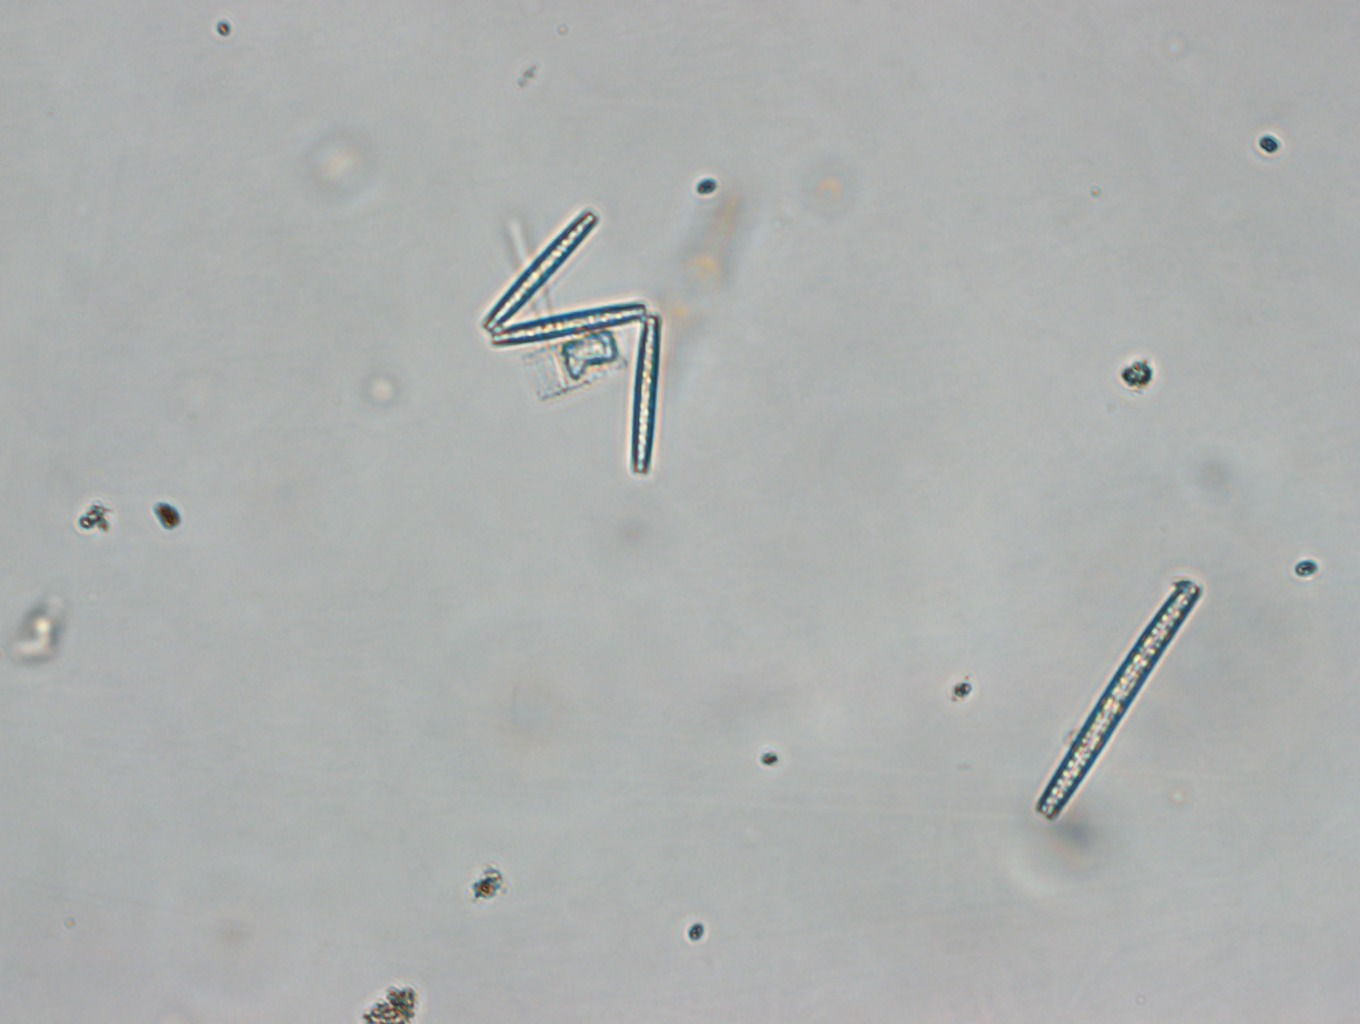thalassionema nitzschioides: (476, 204, 662, 488)
